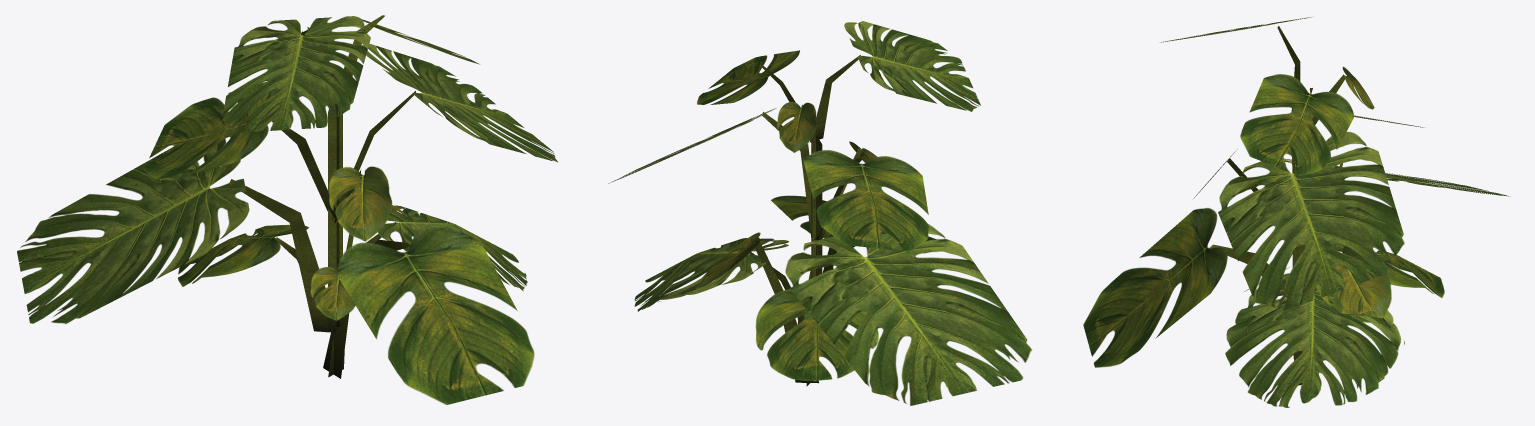
Rendered from stklib_tropicalPlant_a_main_b.glb.
3 views of the same model, side by side, from view 1: azimuth 30°, elevation 25°; view 2: azimuth 150°, elevation 25°; view 3: azimuth 270°, elevation 25° (orthographic). The views are drawn at different scales.
Visible parts, largest first — view 1: stktex_tropicalPlant_a.png__; view 2: stktex_tropicalPlant_a.png__; view 3: stktex_tropicalPlant_a.png__.
Part boxes in pixels (left/top/right/bottom): stktex_tropicalPlant_a.png__: left=17, top=15, right=557, bottom=404; stktex_tropicalPlant_a.png__: left=608, top=21, right=1031, bottom=405; stktex_tropicalPlant_a.png__: left=1083, top=16, right=1510, bottom=407.
Size of the model in its own units: 5.93 by 4.4 by 4.94.
1 material, 1 textured.
